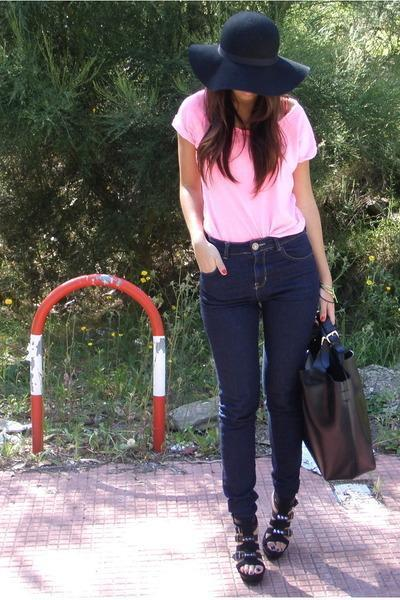bag: (290, 348, 377, 482)
hat: (189, 19, 299, 107)
pants: (188, 228, 333, 539)
shirt: (172, 88, 316, 241)
shoe: (236, 521, 291, 585)
